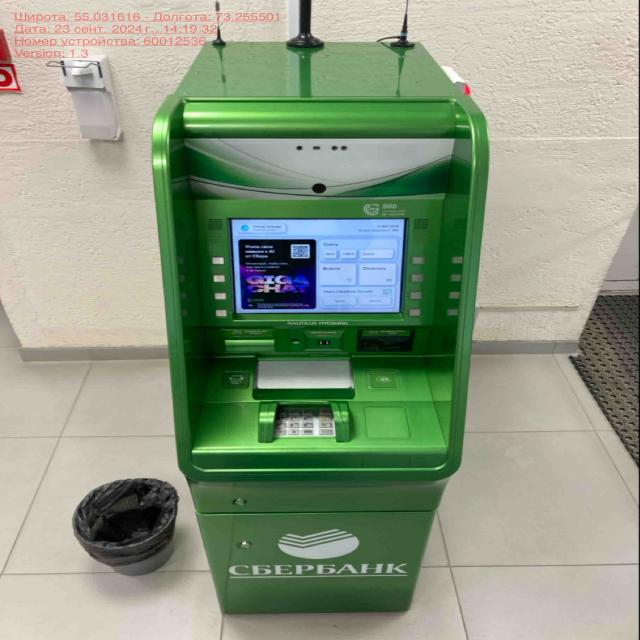bank: (155, 40, 493, 617)
